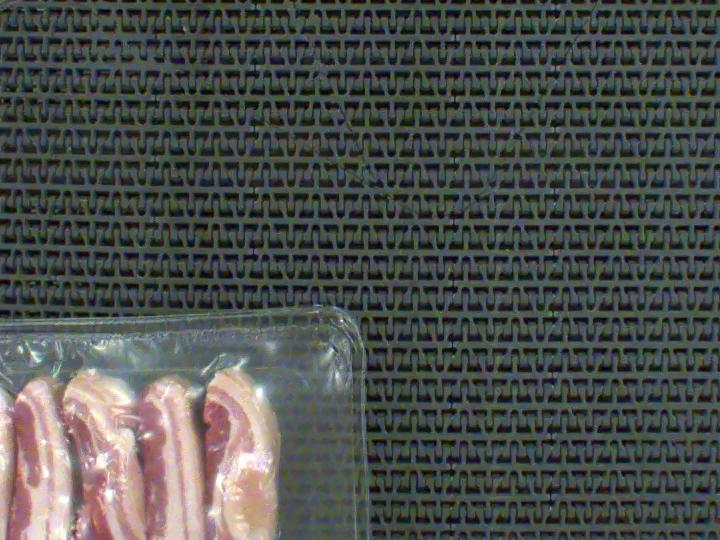unsealed: (0, 336, 315, 540)
